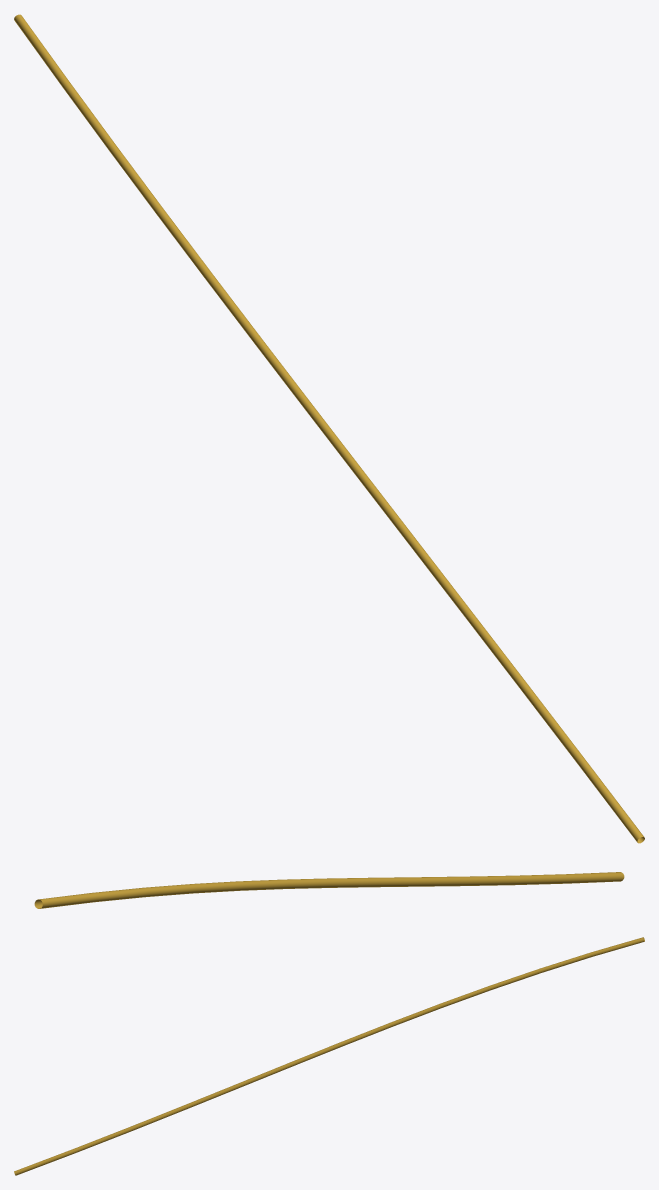
3 renders of one model, top to bottom at view 1: azimuth 30°, elevation 25°; view 2: azimuth 150°, elevation 25°; view 3: azimuth 270°, elevation 25°, orthographic. The views are drawn at different scales.
Visible parts, largest first — view 1: 左侧腓肠内侧皮神经; view 2: 左侧腓肠内侧皮神经; view 3: 左侧腓肠内侧皮神经.
Boxes of the visible parts, bbox=[...] form: 左侧腓肠内侧皮神经: bbox=[14, 14, 644, 843]; 左侧腓肠内侧皮神经: bbox=[34, 872, 624, 908]; 左侧腓肠内侧皮神经: bbox=[14, 937, 644, 1175].
Size of the model in its own units: 0.0102 by 0.0761 by 0.1919.
